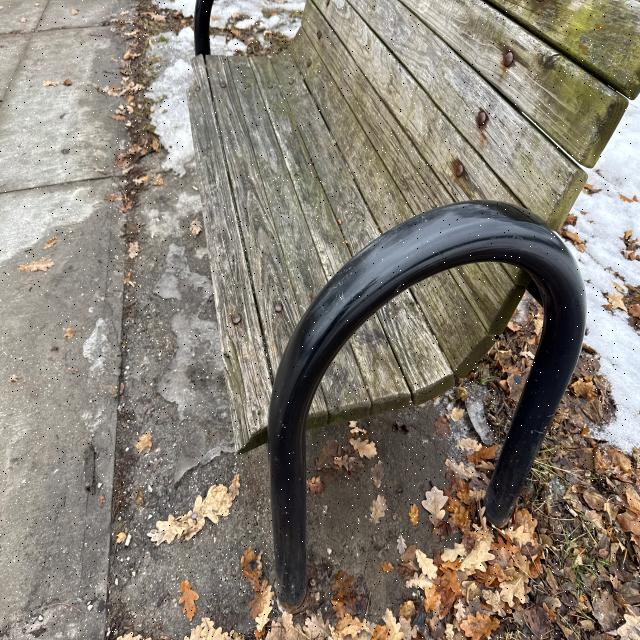Bench: (191, 0, 640, 575)
